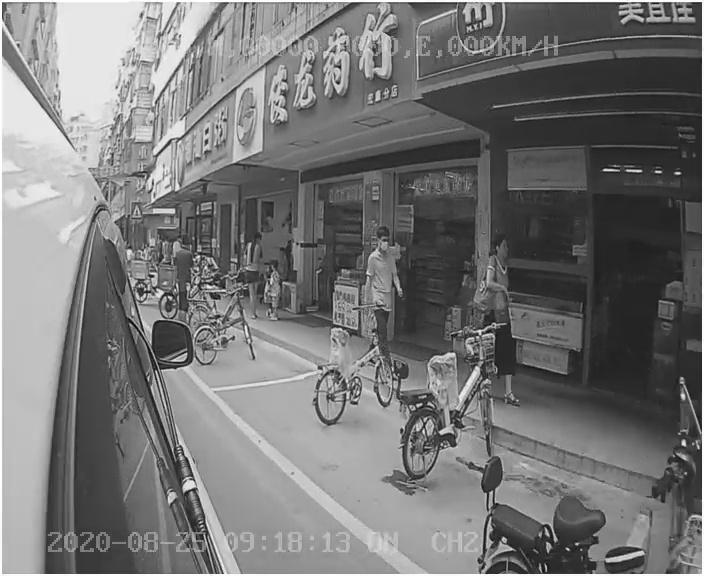person: (475, 236, 531, 410), (360, 225, 410, 355)
